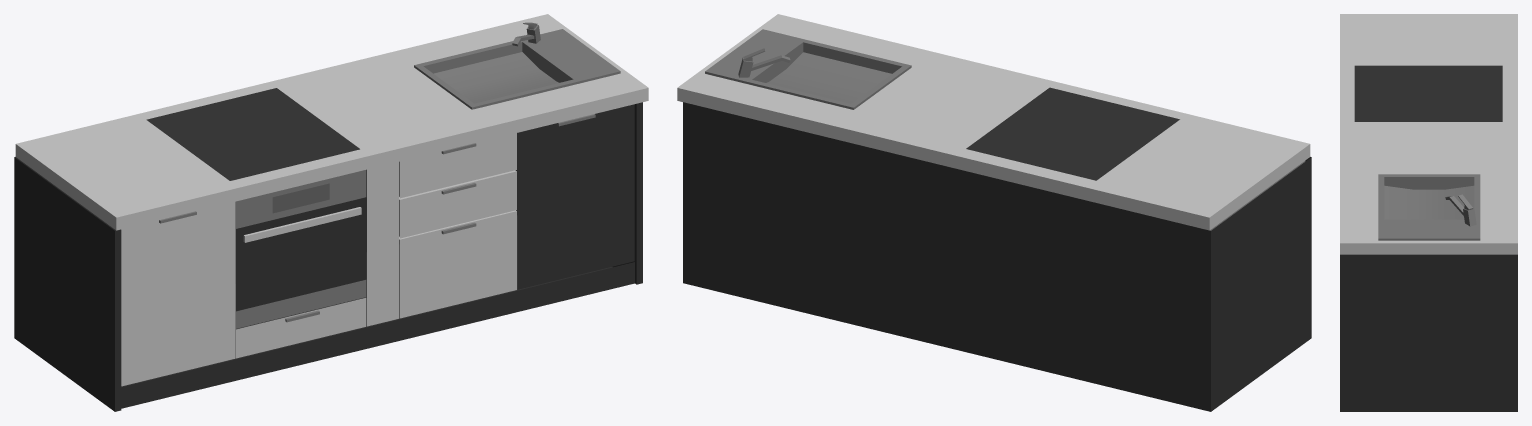
File: Cocina.fbx
The picture shows the model from 3 angles, left to right: view 1: azimuth 30°, elevation 25°; view 2: azimuth 150°, elevation 25°; view 3: azimuth 270°, elevation 25°; orthographic projection. The views are drawn at different scales.
Parts seen in each view (by area): view 1: Cocina; view 2: Cocina; view 3: Cocina.
Part boxes in pixels (x1=…): Cocina: x1=14, y1=14, x2=648, y2=411; Cocina: x1=677, y1=14, x2=1311, y2=411; Cocina: x1=1340, y1=14, x2=1517, y2=411.
Bounding box in the file's own units: 1.83 × 0.725 × 0.5973.
